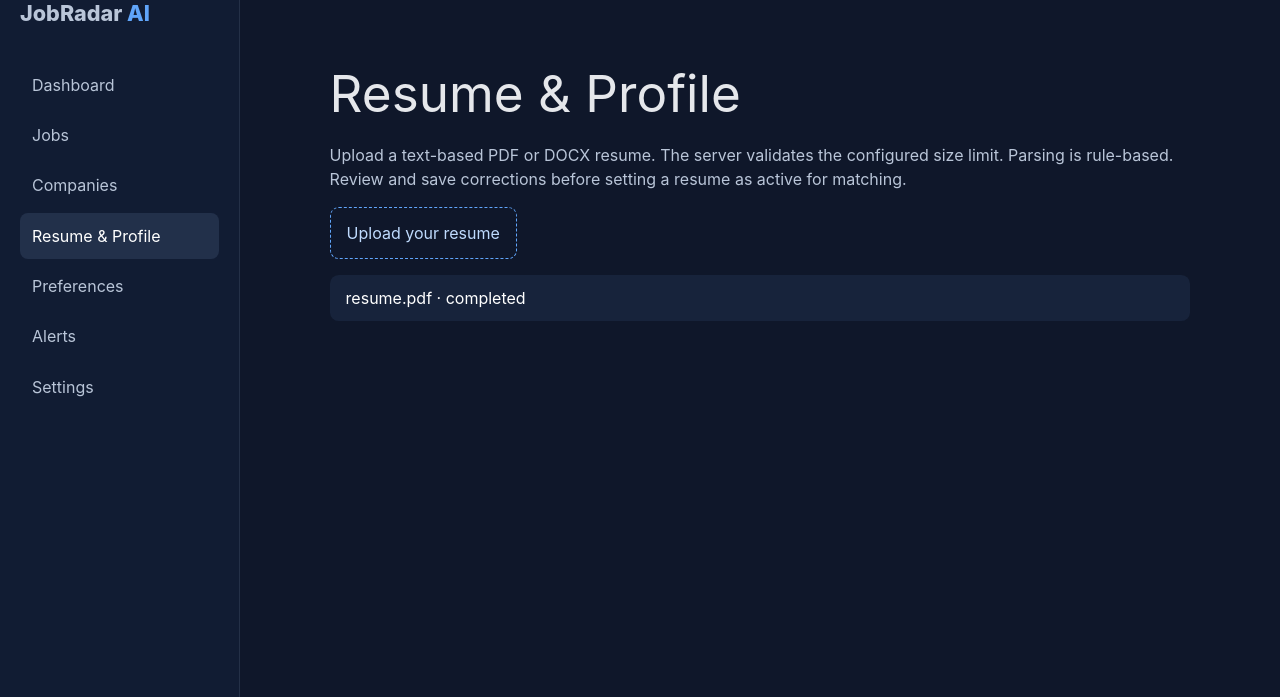
it: updates the selected editor after activation and preserves unsaved fields
Click the button "resume.pdf · completed" at [389, 298], box [330, 275, 1190, 321]
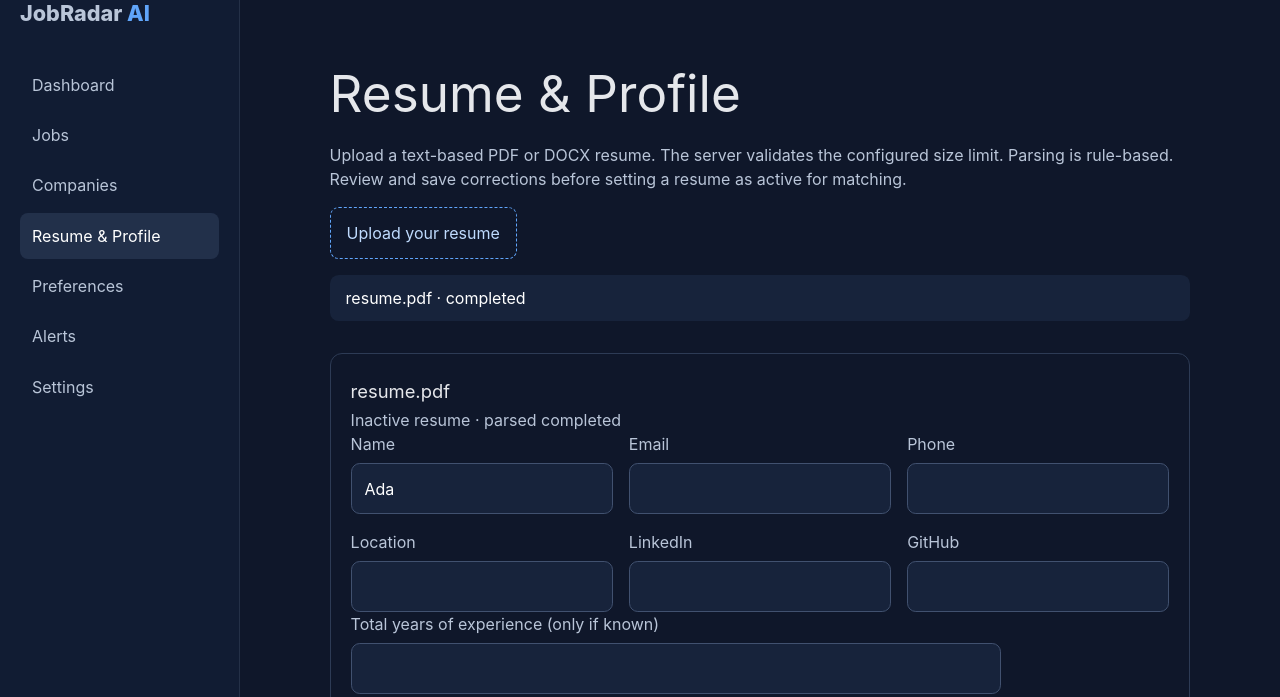
Replace the text in the field labelled "Name" with "Unsaved edit" at [482, 488], box [351, 463, 613, 514]
(page scrolled)
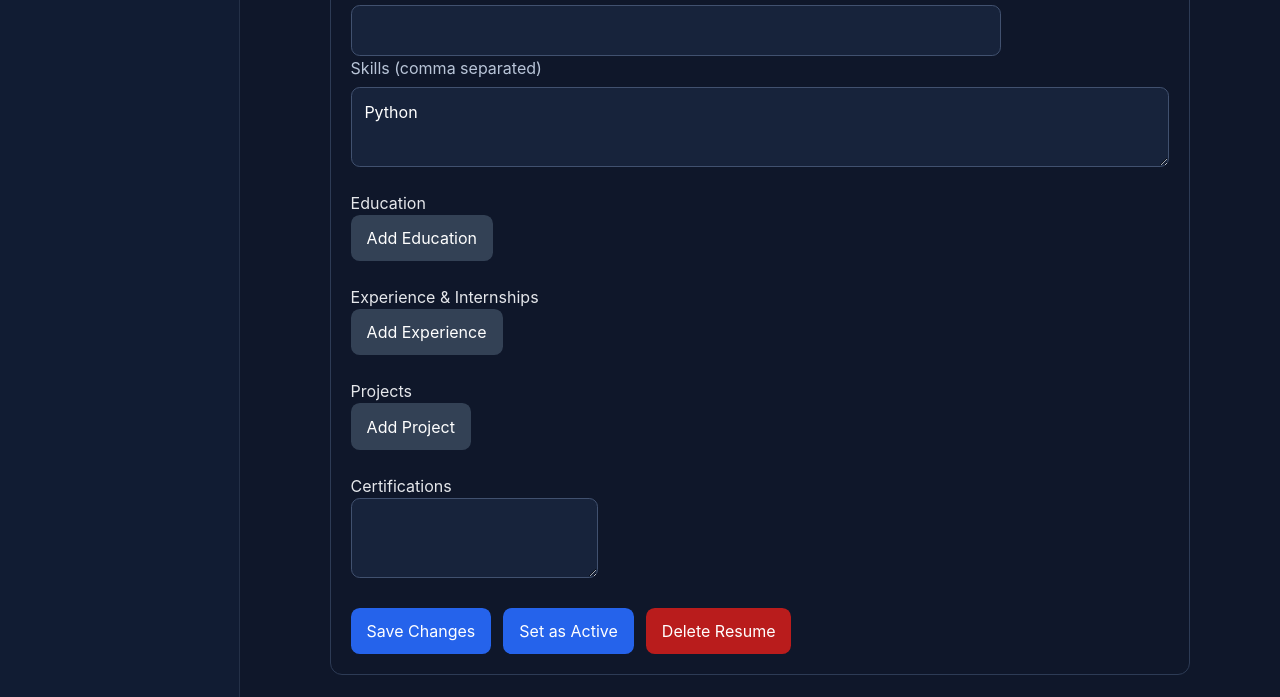
Click the button "Set as Active" at [569, 631], box [503, 608, 634, 654]
(page scrolled)
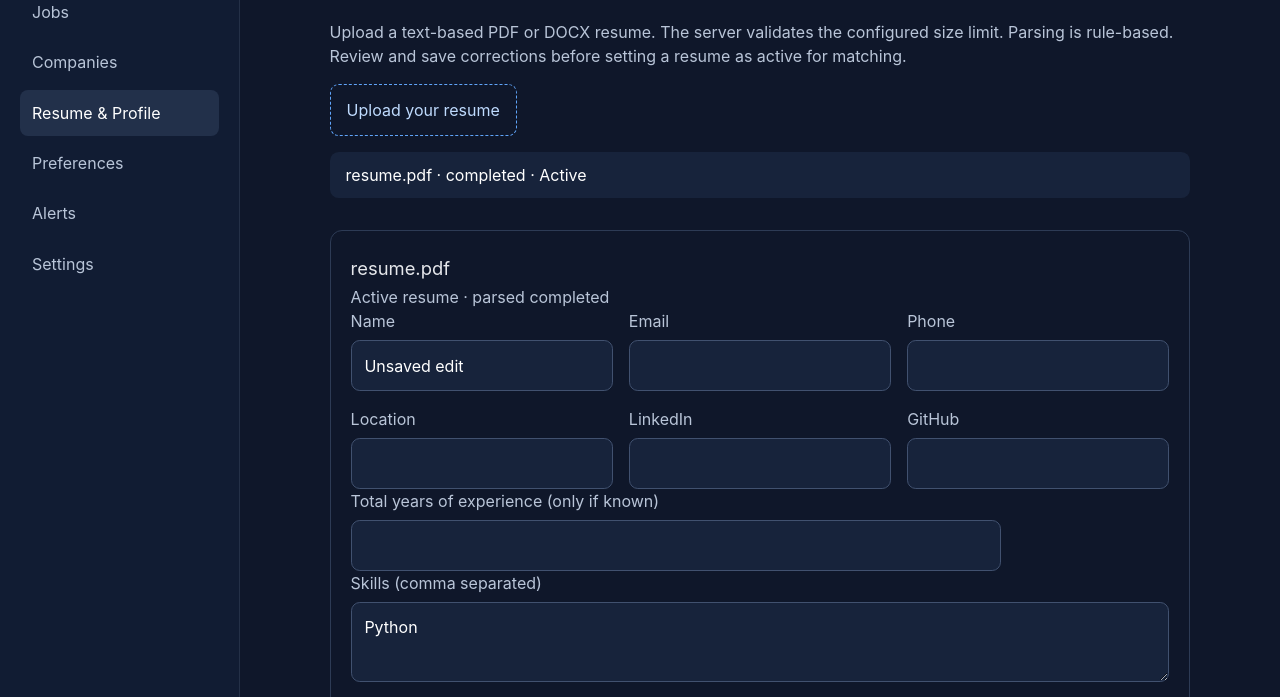
Now the text "Active resume · parsed completed" is shown, box [351, 287, 609, 307]
